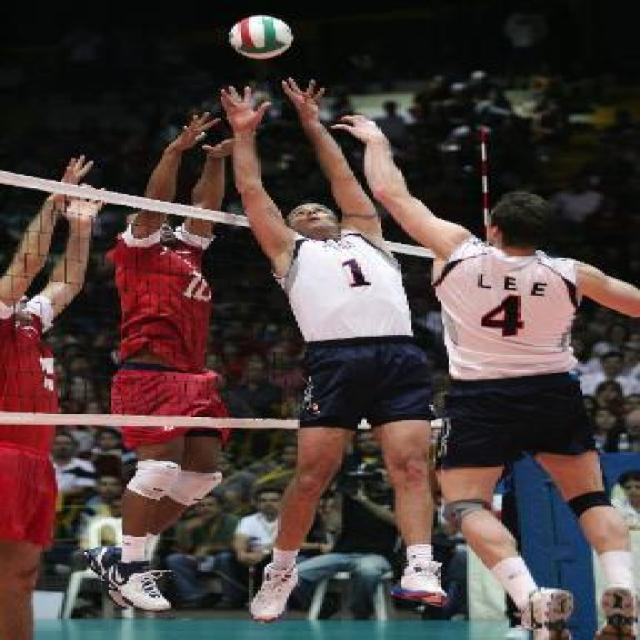volleyball: (228, 17, 290, 61)
